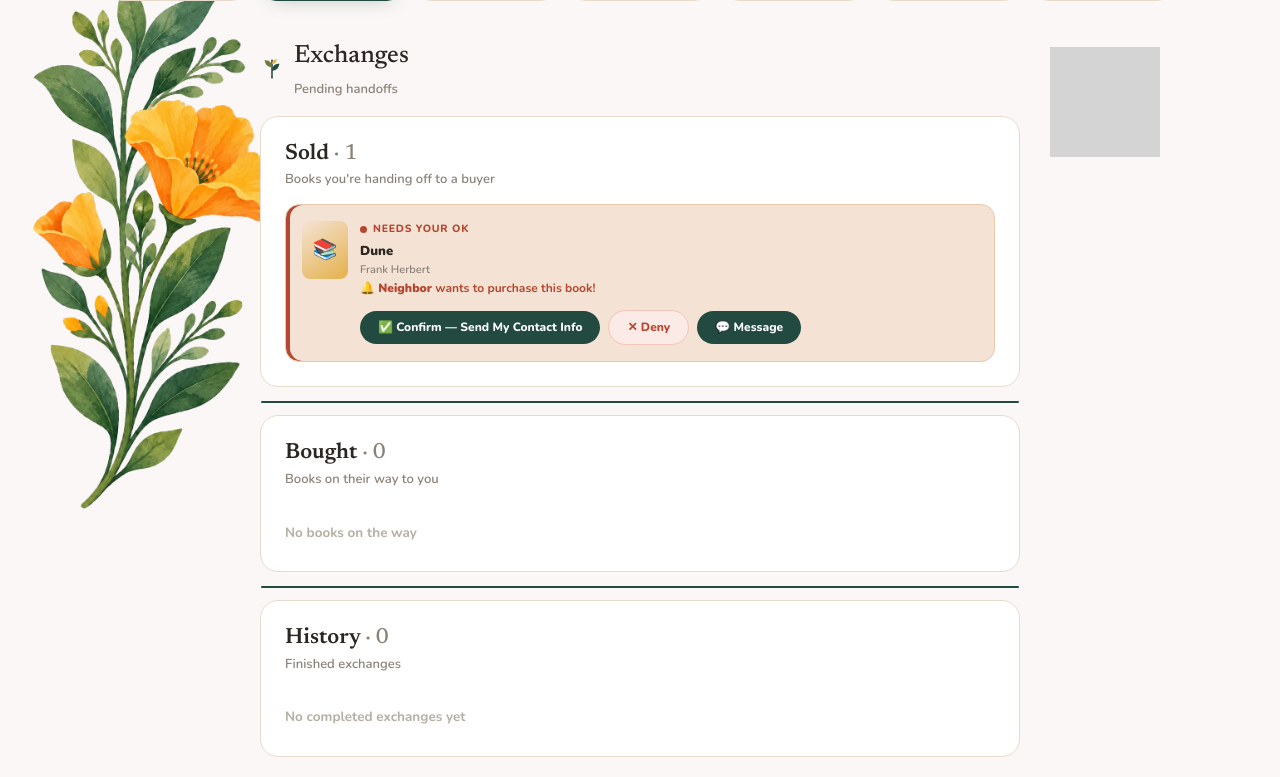
Test: DashboardClient — seller pickup availability › shows the three availability options after clicking Confirm, none selected by default
The image size is (1280, 777).
(page scrolled)
Click the button "✅ Confirm — Send My Contact Info" at [480, 328], box [360,311,600,344]
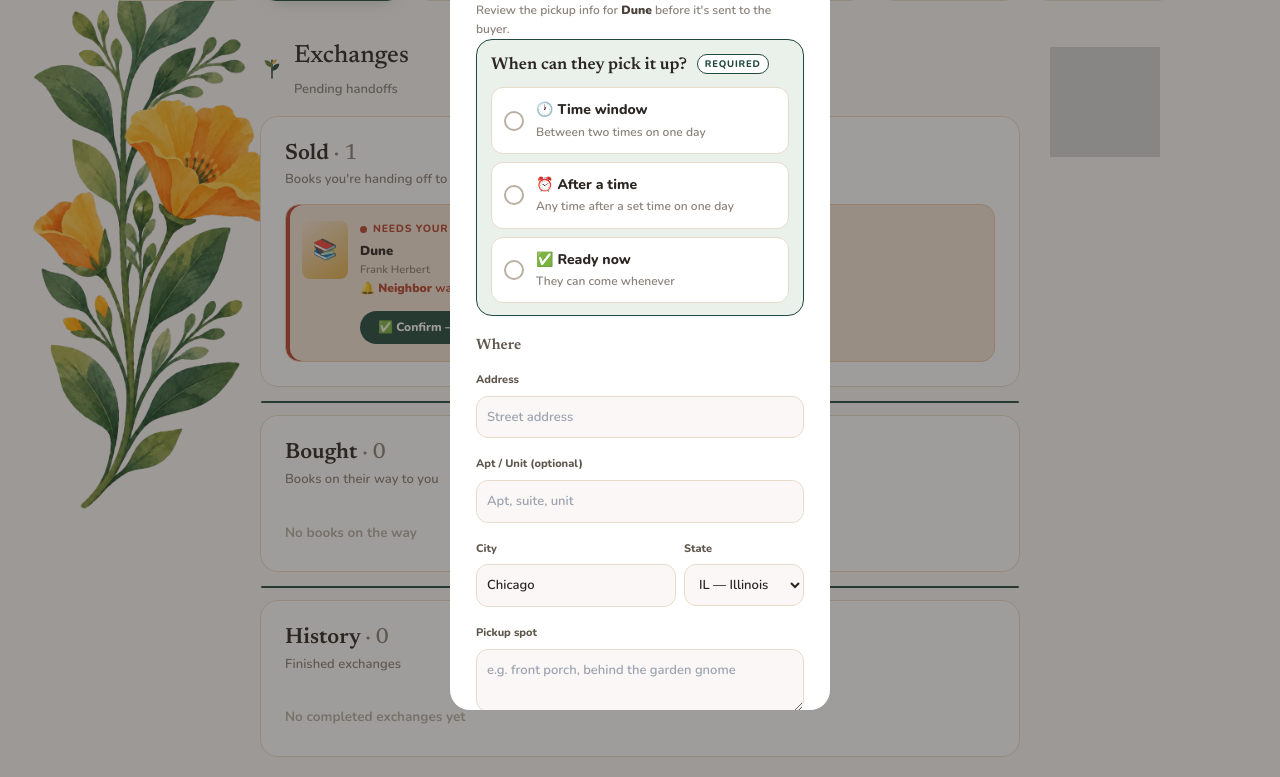
Expected: the heading "When can they pick it up? Required" is shown, [491,54,789,77]
Expected: the radio button labelled "🕐 Time window Between two times on one day" is not checked, [504,111,524,131]
Expected: the radio button labelled "⏰ After a time Any time after a set time on one day" is not checked, [504,185,524,205]
